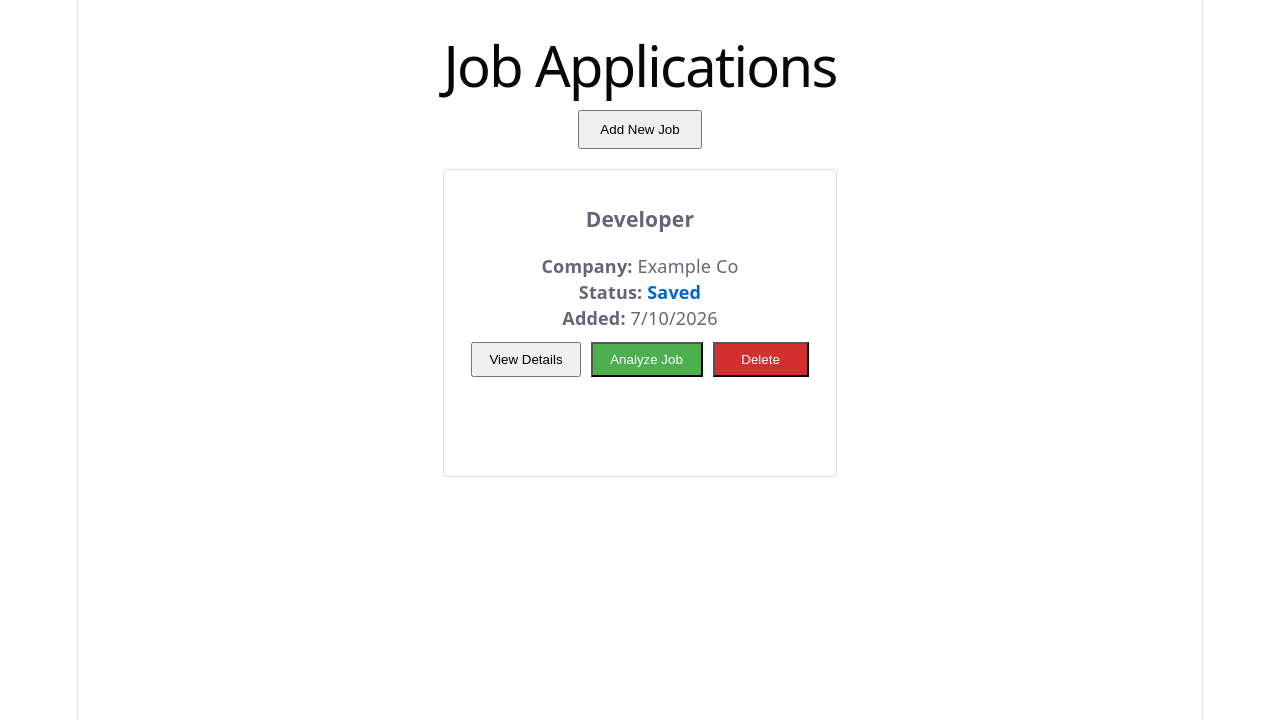
it: JobListPage feedback › keeps analysis failures inline with the affected job
The width and height of the screenshot is (1280, 720).
Click the button "Analyze Job" at (646, 359), box x1=590 y1=342 x2=702 y2=377
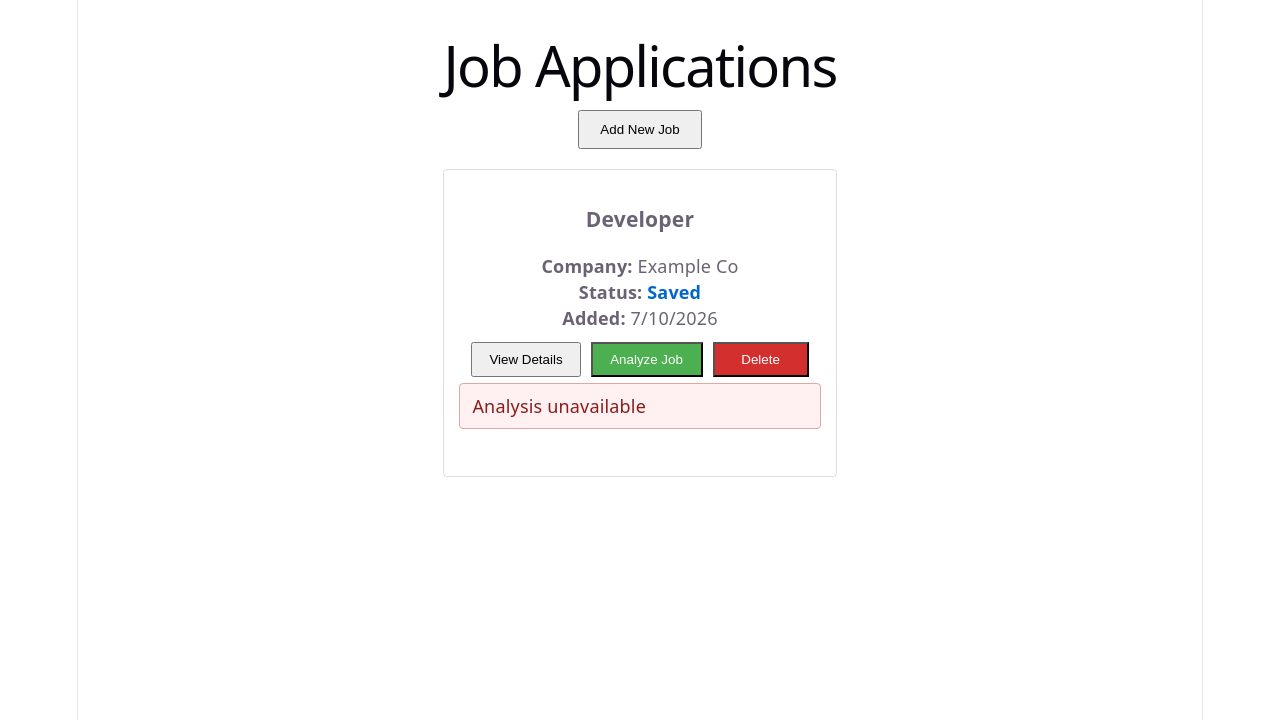
Check: the message "Analysis unavailable" is shown, box x1=459 y1=383 x2=820 y2=429
